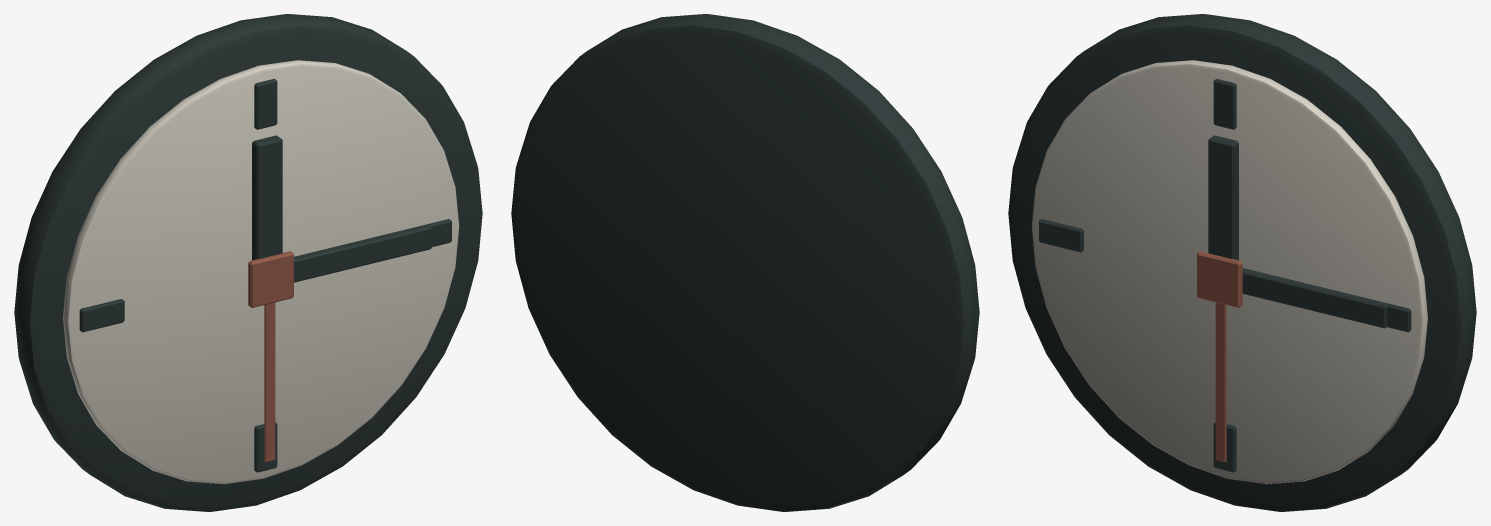
File: wall-clock.glb
3 views of the same model, side by side, from view 1: azimuth 30°, elevation 25°; view 2: azimuth 150°, elevation 25°; view 3: azimuth 330°, elevation 25° (orthographic).
Visible parts, largest first — view 1: wall-clock; view 2: wall-clock; view 3: wall-clock.
Part boxes in pixels (x1,y1,x2,y2): wall-clock: (14,14,482,511); wall-clock: (511,14,979,511); wall-clock: (1008,14,1476,511).
Bounding box in the file's own units: 0.42 × 0.42 × 0.054.
